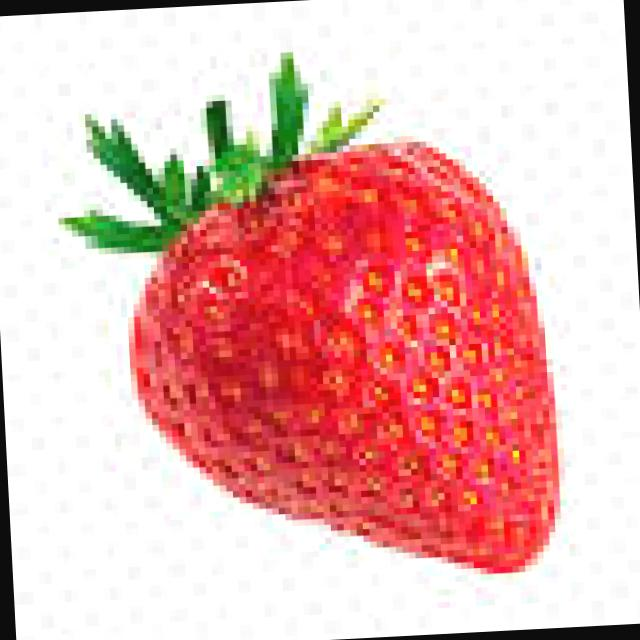strawberry: (66, 74, 580, 596)
